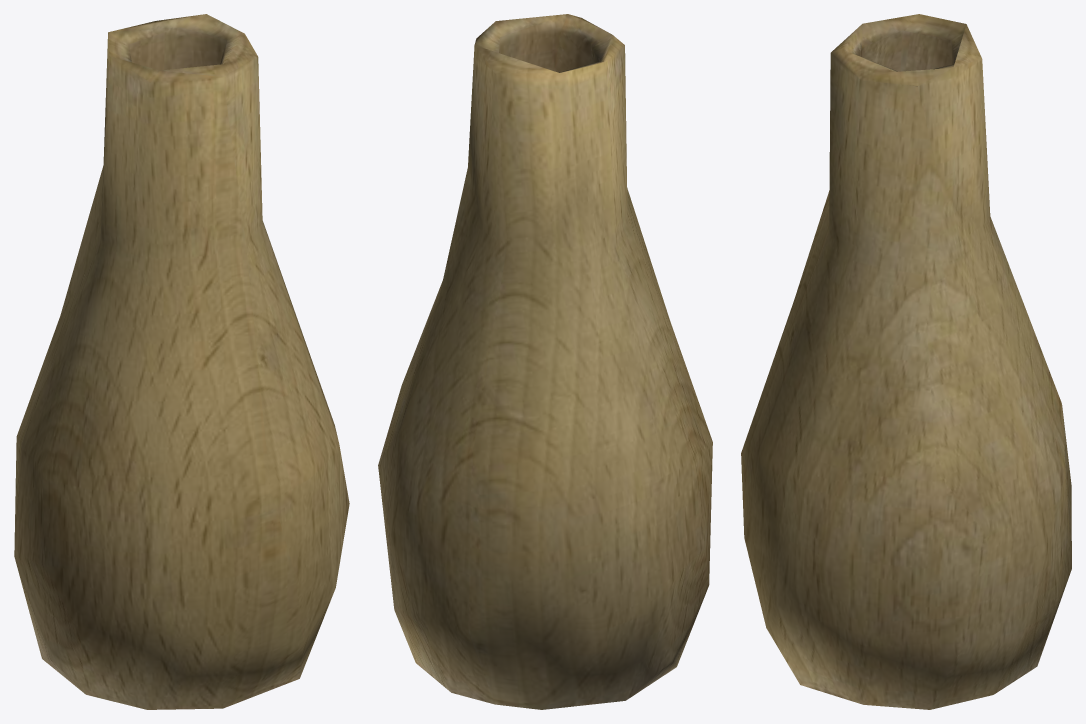
File: wood_vase.glb
3 renders of one model, left to right at view 1: azimuth 30°, elevation 25°; view 2: azimuth 150°, elevation 25°; view 3: azimuth 270°, elevation 25°, orthographic.
Visible parts, largest first — view 1: Megascans wood_vase; view 2: Megascans wood_vase; view 3: Megascans wood_vase.
Boxes of the visible parts, bbox=[...] form: Megascans wood_vase: bbox=[14, 14, 349, 709]; Megascans wood_vase: bbox=[378, 14, 712, 709]; Megascans wood_vase: bbox=[741, 14, 1071, 709].
Bounding box in the file's own units: 0.0448 × 0.09 × 0.0442.
Materials: 1 (1 with a texture image).
